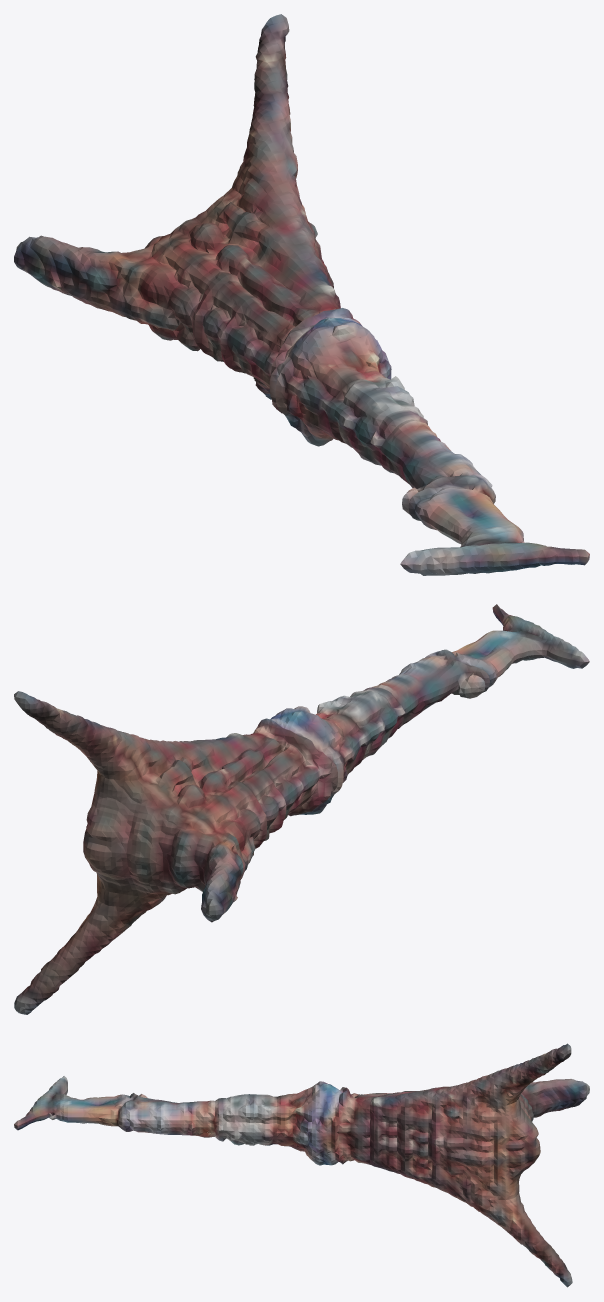
Rendered from tokyo_tower_triposr.glb.
3 views of the same model, one above another, from view 1: azimuth 30°, elevation 25°; view 2: azimuth 150°, elevation 25°; view 3: azimuth 270°, elevation 25° (orthographic). The views are drawn at different scales.
Parts seen in each view (by area): view 1: world; view 2: world; view 3: world.
Boxes of the visible parts, <box> form: world: <box>14,14,589,575</box>; world: <box>14,604,589,1014</box>; world: <box>14,1043,589,1287</box>.
Size of the model in its own units: 0.3667 by 0.4698 by 1.02.
